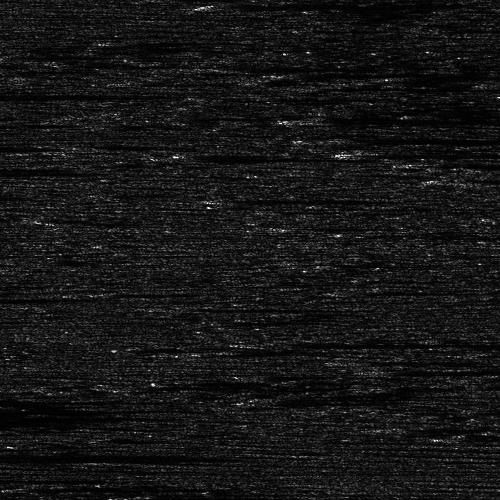rock: (440, 169, 500, 206), (269, 132, 394, 143), (8, 483, 101, 492), (256, 67, 319, 80), (414, 174, 487, 185), (295, 148, 378, 157), (283, 112, 336, 121), (234, 339, 287, 346), (408, 154, 439, 165), (110, 493, 151, 500), (185, 3, 238, 8), (197, 66, 238, 71), (208, 197, 249, 202), (72, 142, 103, 147), (164, 155, 205, 158), (369, 367, 380, 378), (375, 426, 406, 429)
shadow: (288, 67, 500, 80), (131, 493, 500, 500), (0, 450, 174, 463), (55, 483, 264, 492), (332, 132, 500, 143), (310, 112, 500, 121), (261, 339, 500, 346), (337, 148, 500, 157), (0, 164, 87, 177), (212, 3, 426, 8), (0, 91, 123, 98), (229, 197, 392, 202), (0, 414, 138, 419), (424, 154, 482, 165), (375, 367, 431, 378), (0, 397, 181, 400), (218, 66, 326, 71), (451, 174, 500, 185), (88, 142, 191, 147), (185, 155, 346, 158), (0, 480, 44, 489), (391, 426, 500, 429), (0, 294, 74, 297), (0, 143, 33, 148), (0, 477, 13, 482)
